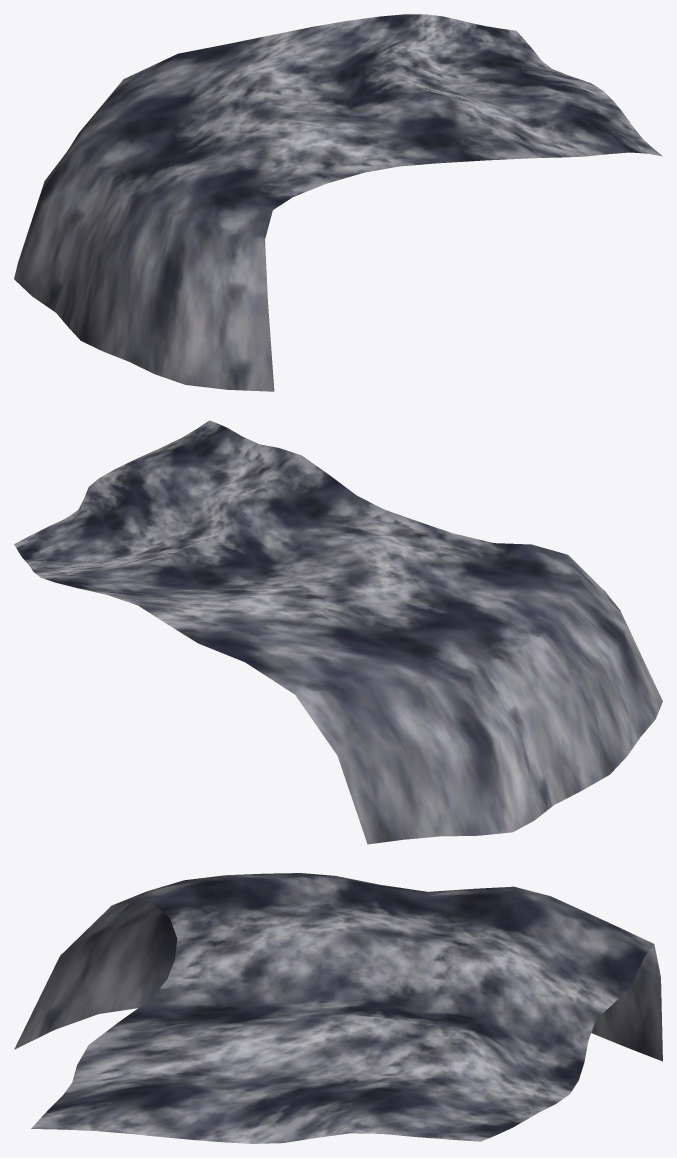
File: SWORDLIGHT20_WATER02.fbx
3 renders of one model, top to bottom at view 1: azimuth 30°, elevation 25°; view 2: azimuth 150°, elevation 25°; view 3: azimuth 270°, elevation 25°, orthographic. The views are drawn at different scales.
Parts seen in each view (by area): view 1: SWORDLIGHT20_WATER02; view 2: SWORDLIGHT20_WATER02; view 3: SWORDLIGHT20_WATER02.
Boxes of the visible parts, x1,y1,x2,y2 form: SWORDLIGHT20_WATER02: [14, 14, 662, 391]; SWORDLIGHT20_WATER02: [14, 420, 662, 844]; SWORDLIGHT20_WATER02: [14, 873, 662, 1143].
Bounding box in the file's own units: 209000 × 65506 × 172088.
1 material, 1 textured.
